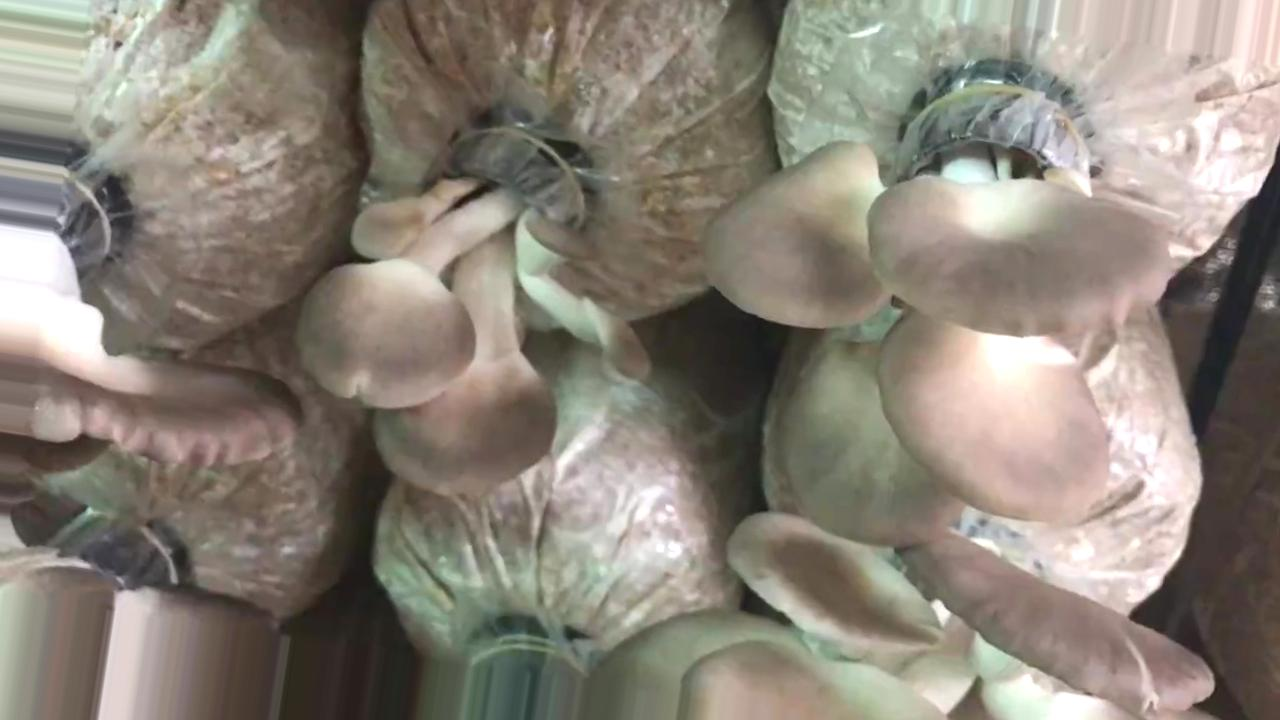nam: (707, 123, 1168, 555), (586, 513, 1211, 716), (310, 135, 648, 487), (1, 152, 275, 448), (1, 534, 282, 717)
